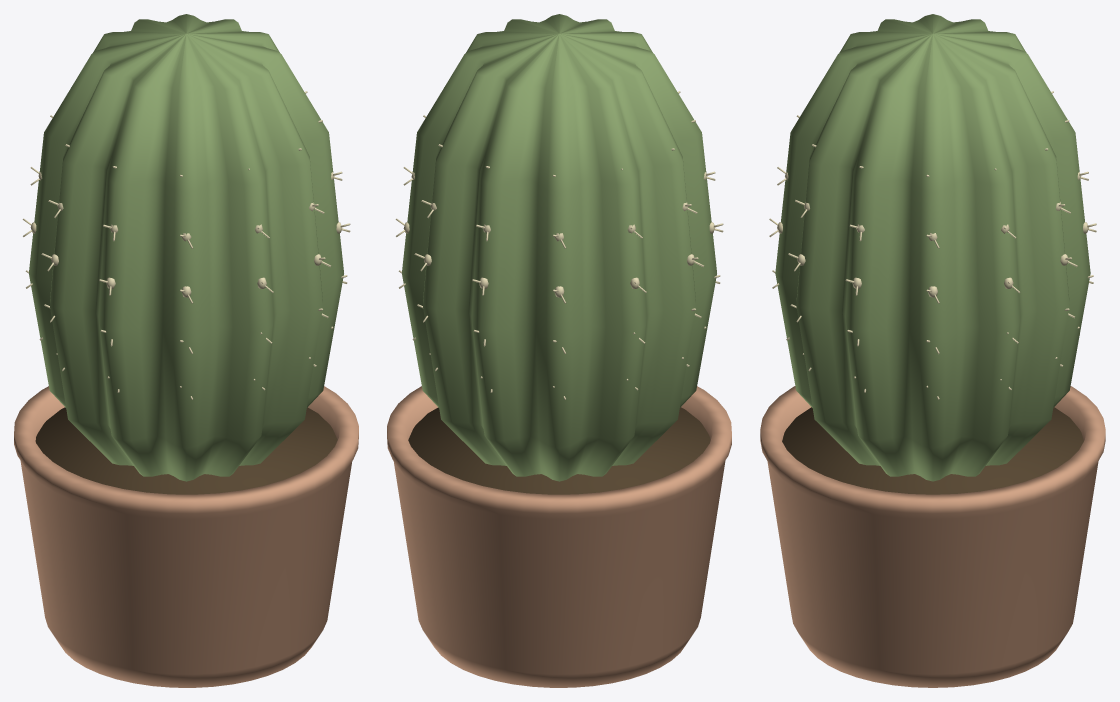
File: cactus.glb
3 renders of one model, left to right at view 1: azimuth 30°, elevation 25°; view 2: azimuth 150°, elevation 25°; view 3: azimuth 270°, elevation 25°, orthographic.
Visible parts, largest first — view 1: cactus__leaves, cactus__body, cactus__soil, cactus__needles; view 2: cactus__leaves, cactus__body, cactus__soil, cactus__needles; view 3: cactus__leaves, cactus__body, cactus__soil, cactus__needles.
Boxes of the visible parts, x1,y1,x2,y2 form: cactus__leaves: [29, 14, 343, 481]; cactus__body: [14, 386, 358, 687]; cactus__soil: [35, 407, 337, 494]; cactus__needles: [22, 91, 350, 399]; cactus__leaves: [402, 14, 716, 481]; cactus__body: [387, 386, 731, 687]; cactus__soil: [408, 407, 710, 494]; cactus__needles: [395, 91, 723, 399]; cactus__leaves: [775, 14, 1090, 481]; cactus__body: [760, 386, 1105, 687]; cactus__soil: [782, 407, 1083, 494]; cactus__needles: [769, 91, 1096, 399].
Bounding box in the file's own units: 0.2 × 0.383 × 0.2.
